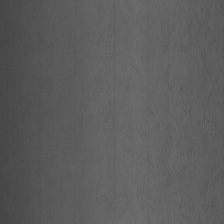silk_spot: (120, 7, 217, 211)
